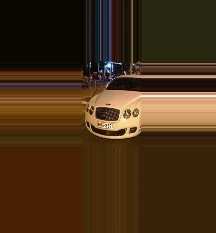plate: (96, 122, 112, 128)
